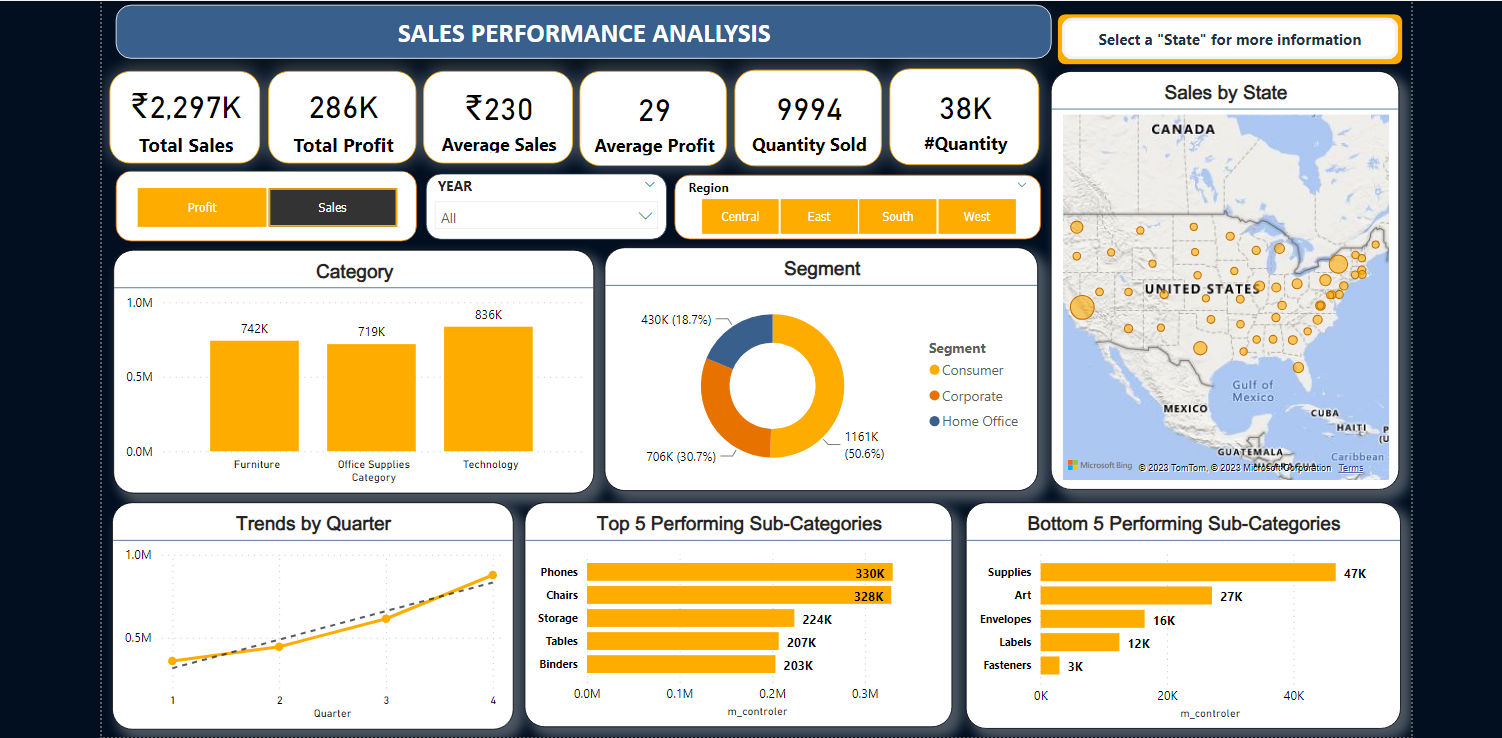

The dashboard page shown, as its layout file describes it:
{"tool":"powerbi","page":{"name":"Sales performance ","canvas":[1280,720],"ordinal":0},"visuals":[{"type":"textbox","box":[13.8,4.2,915,52.5],"z":0},{"type":"columnChart","title":"Category","fields":{"Category":["order2017.Category","order2017.Sub-Category","order2017.Product Name"],"Y":["order2017.m_controler"]},"box":[11,243.3,470.6,238.4],"z":1000},{"type":"map","fields":{"Category":["order2017.State"],"Size":["Sum(order2017.Sales)"]},"box":[927.8,68.5,341.1,409.5],"z":2000},{"type":"card","fields":{"Values":["Sum(order2017.Sales)"]},"box":[13.8,67.5,141.2,90],"z":3000},{"type":"card","fields":{"Values":["Sum(order2017.Profit)"]},"box":[162.5,67.9,145,90],"z":4000},{"type":"donutChart","title":"Segment","fields":{"Category":["order2017.Segment"],"Y":["order2017.m_controler"]},"box":[491.4,240.8,424.2,238.4],"z":5000},{"type":"lineChart","fields":{"Category":["Dates.Quarter","Dates.MONTH","Dates.DAY"],"Y":["order2017.m_controler"]},"box":[10,490,392.5,222.5],"z":6000},{"type":"card","fields":{"Values":["Avg(order2017.Sales)"]},"box":[313.8,68.8,146.2,88.8],"z":7000},{"type":"slicer","fields":{"Values":["Controls.field"]},"box":[13.4,166.2,294.6,68.5],"z":8000},{"type":"slicer","fields":{"Values":["order2017.Region"]},"box":[559.9,169.9,358.2,63.6],"z":9000},{"type":"actionButton","box":[933.8,10,338.8,50],"z":10000},{"type":"slicer","fields":{"Values":["Dates.YEAR"]},"box":[316.6,168.7,235.9,64.8],"z":11000},{"type":"card","fields":{"Values":["Sum(order2017.Quantity)"]},"box":[770.1,66,146.7,94.1],"z":12000},{"type":"clusteredBarChart","title":"Top 5 Performing Sub-Categories","fields":{"Category":["order2017.Sub-Category","order2017.Product Name"],"Y":["order2017.m_controler"]},"box":[413.8,490,418.8,220],"z":13000},{"type":"card","fields":{"Values":["Avg(order2017.Profit)"]},"box":[467,68.5,144.2,92.9],"z":14000},{"type":"clusteredBarChart","title":"Bottom 5 Performing Sub-Categories","fields":{"Category":["order2017.Sub-Category","order2017.Product Name"],"Y":["order2017.m_controler"]},"box":[843.8,490,426.2,221.2],"z":15000},{"type":"card","fields":{"Values":["Count(order2017.Order ID)"]},"box":[618.8,68.8,143.8,92.5],"z":16000}]}

Visuals, with their boxes in screenshot pixels (x1, y1, x2, y2):
textbox: [120, 4, 1046, 57]
"Category" columnChart: [117, 246, 593, 488]
map - order2017.State x Sum(order2017.Sales): [1045, 69, 1390, 484]
card - Sum(order2017.Sales): [120, 68, 263, 159]
card - Sum(order2017.Profit): [270, 69, 417, 160]
"Segment" donutChart: [603, 244, 1033, 485]
lineChart - Dates.Quarter x Dates.MONTH: [116, 496, 513, 721]
card - Avg(order2017.Sales): [423, 70, 571, 160]
slicer - Controls.field: [119, 168, 417, 238]
slicer - order2017.Region: [673, 172, 1035, 236]
actionButton: [1051, 10, 1394, 61]
slicer - Dates.YEAR: [426, 171, 665, 236]
card - Sum(order2017.Quantity): [885, 67, 1034, 162]
"Top 5 Performing Sub-Categories" clusteredBarChart: [525, 496, 949, 719]
card - Avg(order2017.Profit): [578, 69, 724, 163]
"Bottom 5 Performing Sub-Categories" clusteredBarChart: [960, 496, 1392, 720]
card - Count(order2017.Order ID): [732, 70, 878, 163]
